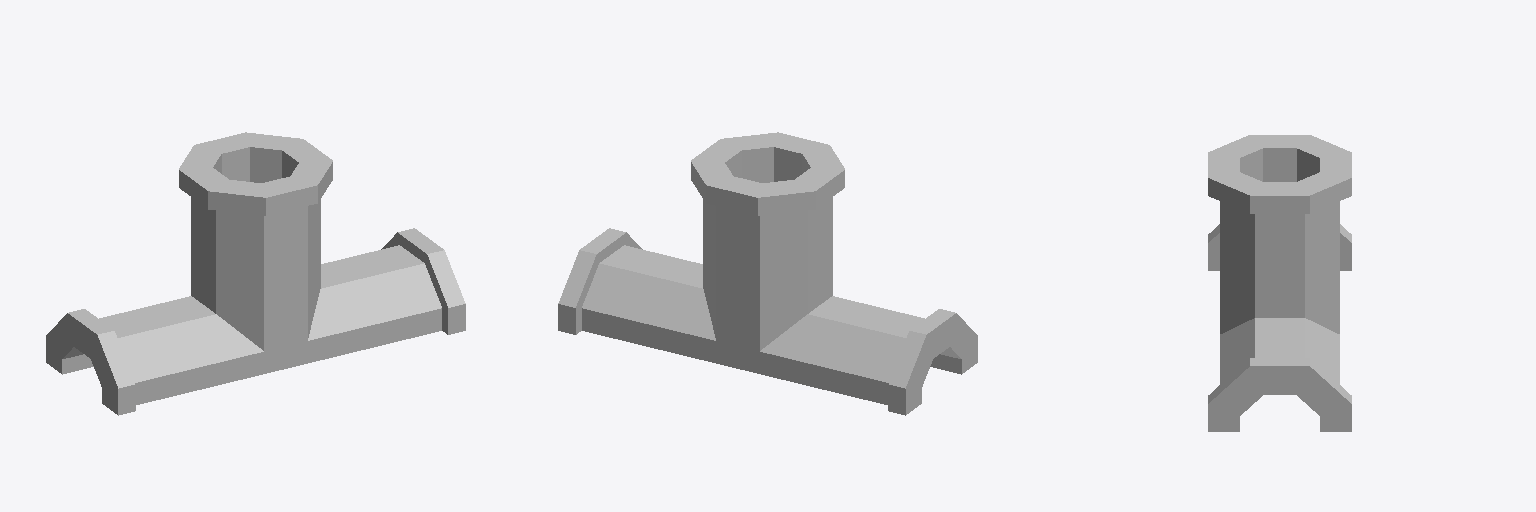
File: Drain Pipe - Straight.obj
The picture shows the model from 3 angles: view 1: azimuth 30°, elevation 25°; view 2: azimuth 150°, elevation 25°; view 3: azimuth 270°, elevation 25°; orthographic projection.
Visible parts, largest first — view 1: Drain_Pipe_-_Straight; view 2: Drain_Pipe_-_Straight; view 3: Drain_Pipe_-_Straight.
Boxes of the visible parts, <box> form: Drain_Pipe_-_Straight: <box>46,132,465,415</box>; Drain_Pipe_-_Straight: <box>558,132,977,415</box>; Drain_Pipe_-_Straight: <box>1208,135,1351,431</box>.
Size of the model in its own units: 1 by 0.5 by 0.36.